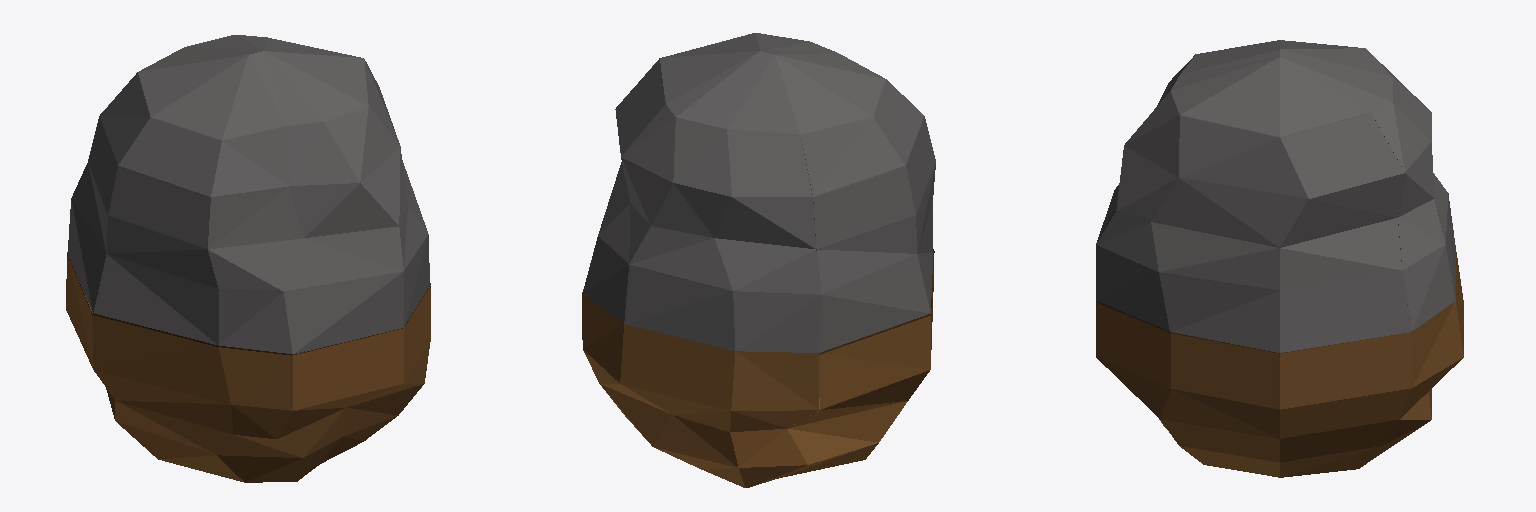
3 renders of one model, left to right at view 1: azimuth 30°, elevation 25°; view 2: azimuth 150°, elevation 25°; view 3: azimuth 270°, elevation 25°, orthographic.
Visible parts, largest first — view 1: pCube1 group1, group1 pasted__pCube1 group; view 2: pCube1 group1, group1 pasted__pCube1 group; view 3: pCube1 group1, group1 pasted__pCube1 group.
Boxes of the visible parts, <box> form: pCube1 group1: <box>68,35,429,354</box>; group1 pasted__pCube1 group: <box>66,252,430,482</box>; pCube1 group1: <box>583,33,935,352</box>; group1 pasted__pCube1 group: <box>582,202,934,487</box>; pCube1 group1: <box>1096,40,1455,352</box>; group1 pasted__pCube1 group: <box>1096,213,1463,477</box>.
Size of the model in its own units: 4.73 by 5.62 by 4.61.
Materials: 1 (1 with a texture image).